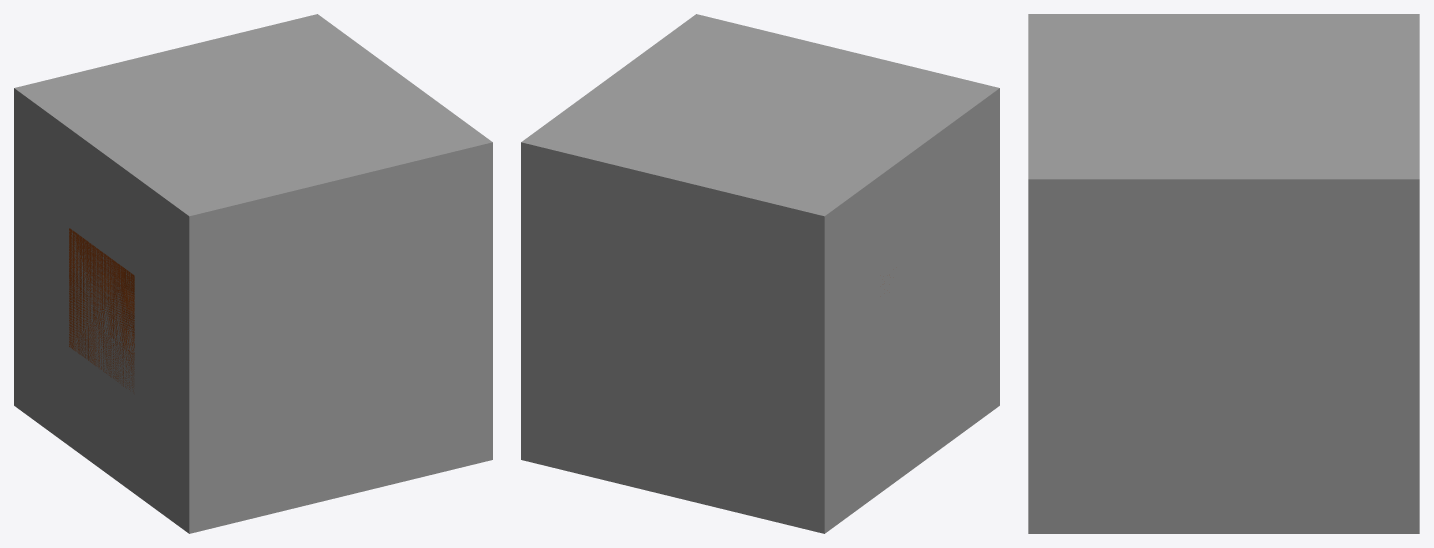
The model's file is voltagesource.obj.
3 views of the same model, side by side, from view 1: azimuth 30°, elevation 25°; view 2: azimuth 150°, elevation 25°; view 3: azimuth 270°, elevation 25° (orthographic). The views are drawn at different scales.
Parts seen in each view (by area): view 1: Minecraft_Block_Cube, Minecraft_2_Edge_Connectivity_Cube.002, main; view 2: Minecraft_Block_Cube, Minecraft_2_Edge_Connectivity_Cube.002; view 3: Minecraft_Block_Cube, Minecraft_2_Edge_Connectivity_Cube.002.
Boxes of the visible parts, box(x1,y1,x2,y2) form: Minecraft_Block_Cube: box(15, 14, 492, 533); Minecraft_2_Edge_Connectivity_Cube.002: box(14, 88, 252, 533); main: box(69, 228, 134, 391); Minecraft_Block_Cube: box(521, 14, 998, 533); Minecraft_2_Edge_Connectivity_Cube.002: box(760, 88, 999, 533); Minecraft_Block_Cube: box(1028, 14, 1419, 533); Minecraft_2_Edge_Connectivity_Cube.002: box(1029, 14, 1418, 96).
Bounding box in the file's own units: 1 × 1 × 1.
2 materials, 1 textured.
